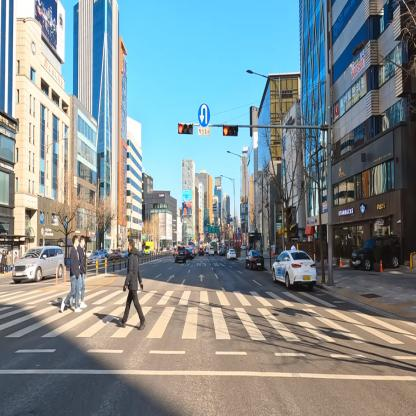red: (222, 124, 239, 140), (178, 121, 195, 135)
